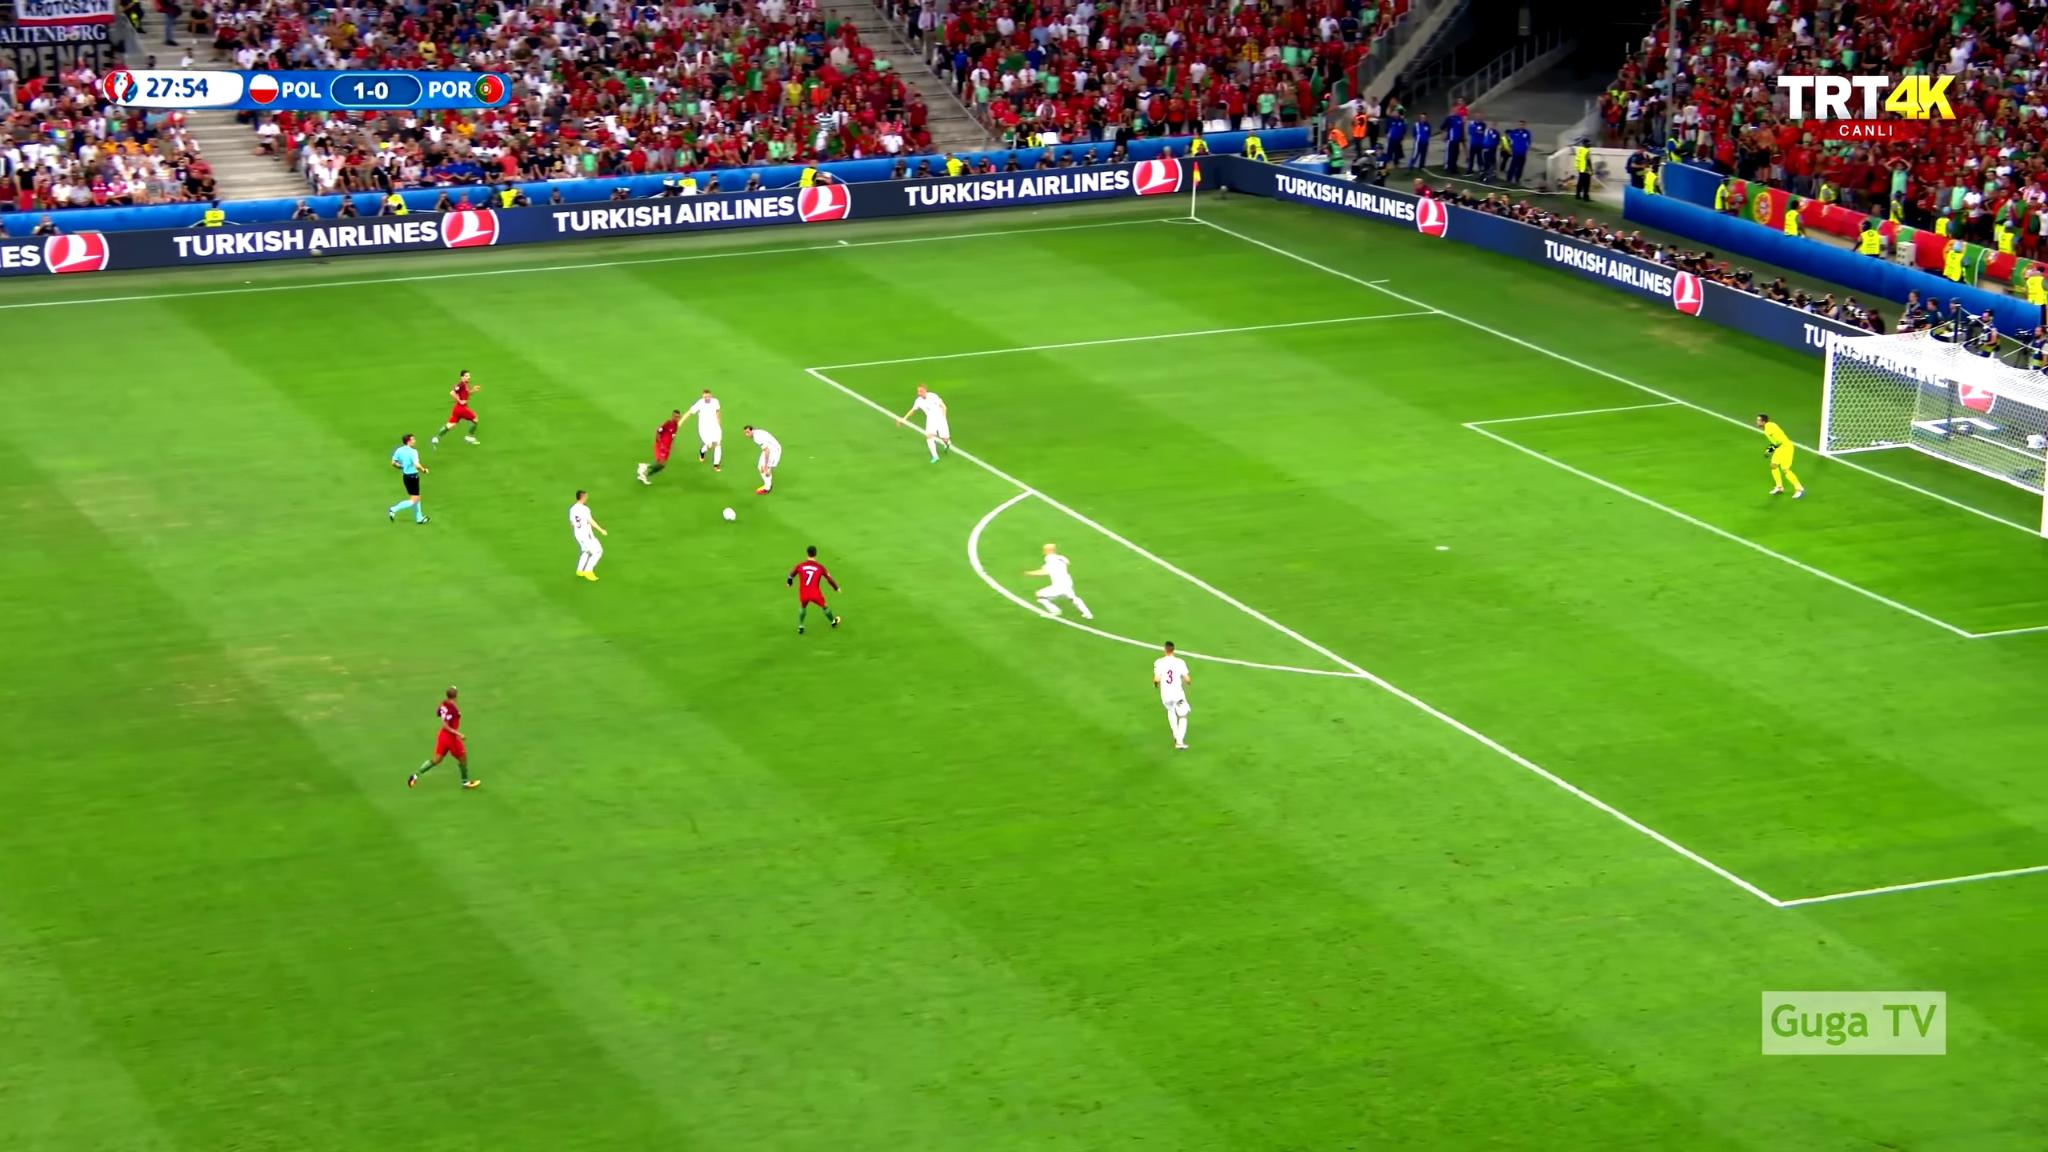ball: (723, 506, 737, 523)
